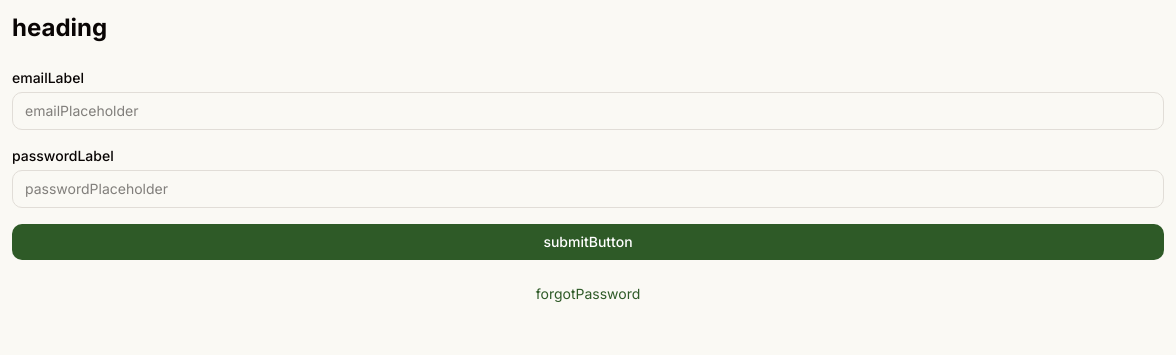
Test: LoginForm › shows error message on invalid credentials
In the field labelled "emailLabel": (588, 111) [12,92,1164,130], type "user@example.com"
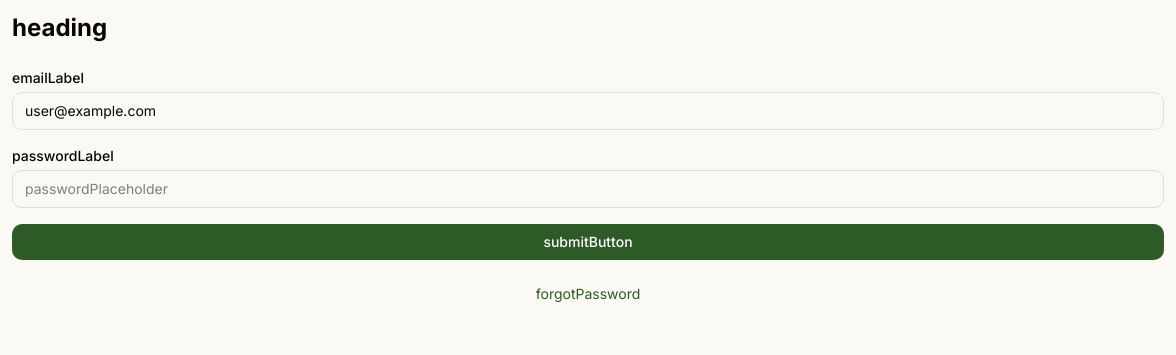
In the password field labelled "passwordLabel": (588, 189) [12,170,1164,208], type "wrong"
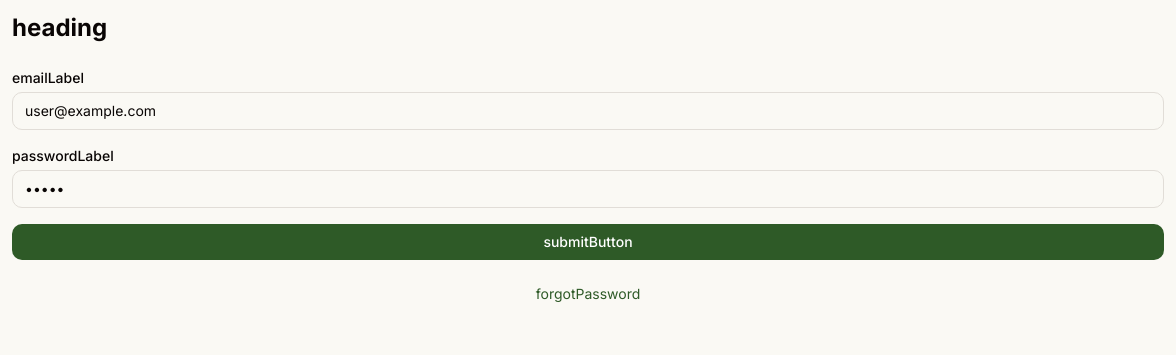
Click the button "submitButton": (588, 242) [12,224,1164,260]
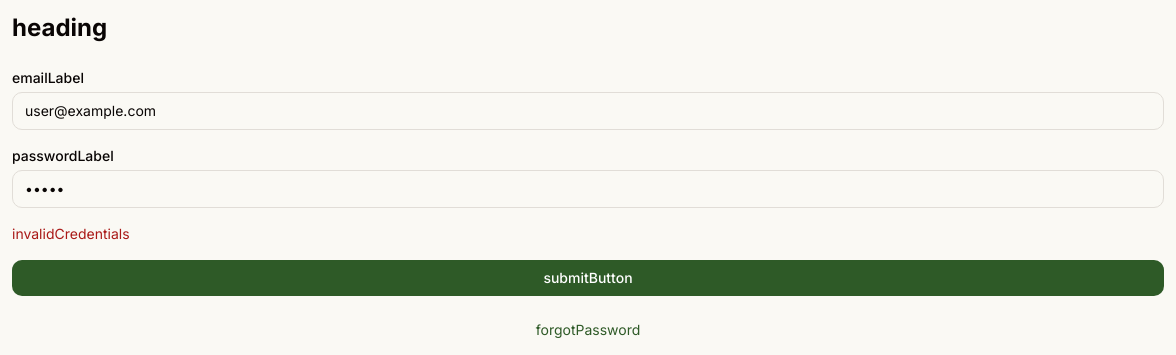
Check: the text "invalidCredentials" is shown, box [12,225,130,242]
